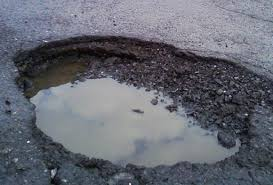pothole: (8, 38, 270, 178)
